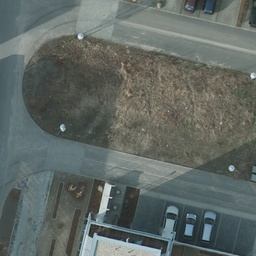car: (158, 206, 179, 236), (200, 211, 217, 245), (183, 210, 196, 242), (203, 1, 215, 15)
